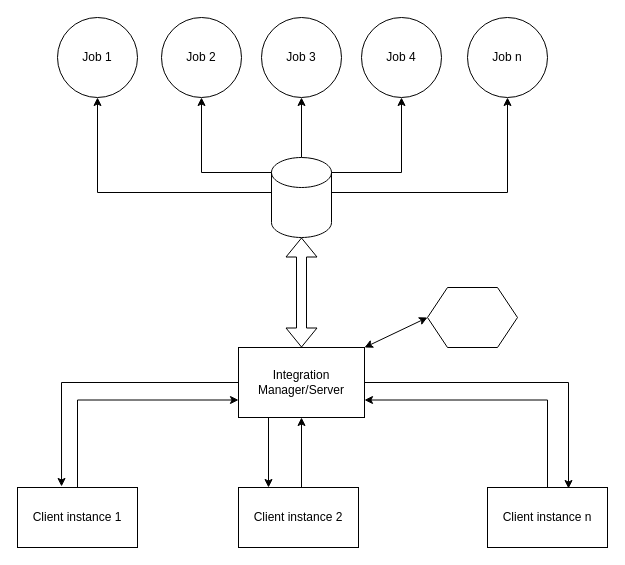
Image size: 625x565. Some labels were removed from this diagram. The shapes that lost their labels are listed below. From the top down, each one's centre as x and y in pixels, then its label:
point (301, 197): SQL Server
point (472, 317): Redis Cache
